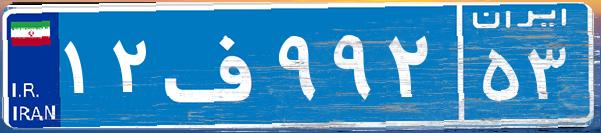1: (57, 26, 110, 107)
2: (385, 28, 445, 110), (110, 28, 158, 105)
3: (525, 38, 570, 115)
5: (475, 38, 525, 113)
9: (273, 28, 330, 110), (330, 28, 385, 110)
ف: (158, 15, 273, 115)
